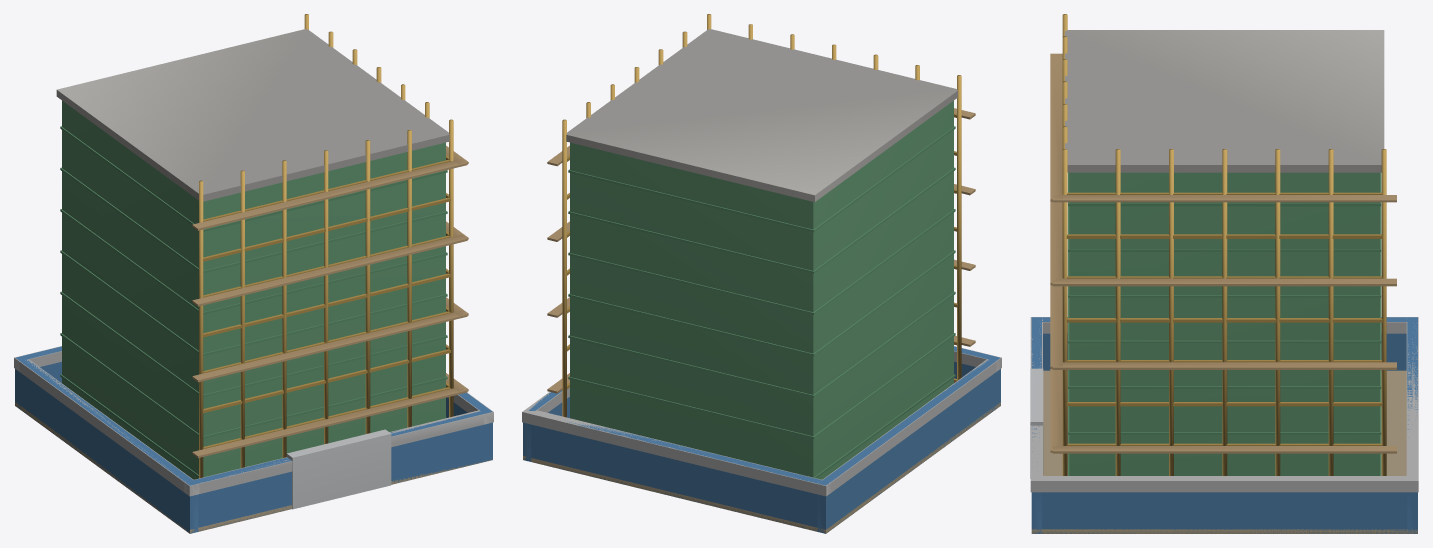
Rendered from build-1-2.glb.
3 views of the same model, side by side, from view 1: azimuth 30°, elevation 25°; view 2: azimuth 150°, elevation 25°; view 3: azimuth 270°, elevation 25° (orthographic). The views are drawn at different scales.
Parts seen in each view (by area): view 1: build-1-2; view 2: build-1-2; view 3: build-1-2.
Part boxes in pixels (<box>): build-1-2: <box>14,14,493,533</box>; build-1-2: <box>522,14,1001,533</box>; build-1-2: <box>1030,14,1418,533</box>.
Size of the model in its own units: 0.924 by 0.972 by 0.925.
